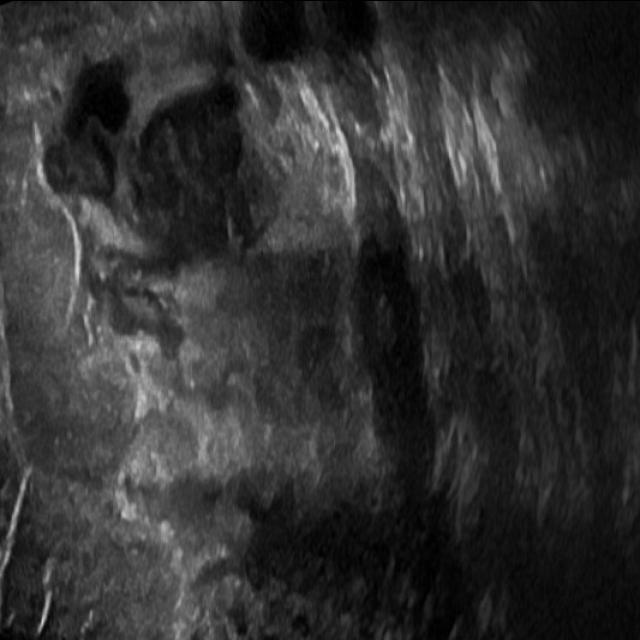Malignant: (88, 88, 257, 260)
